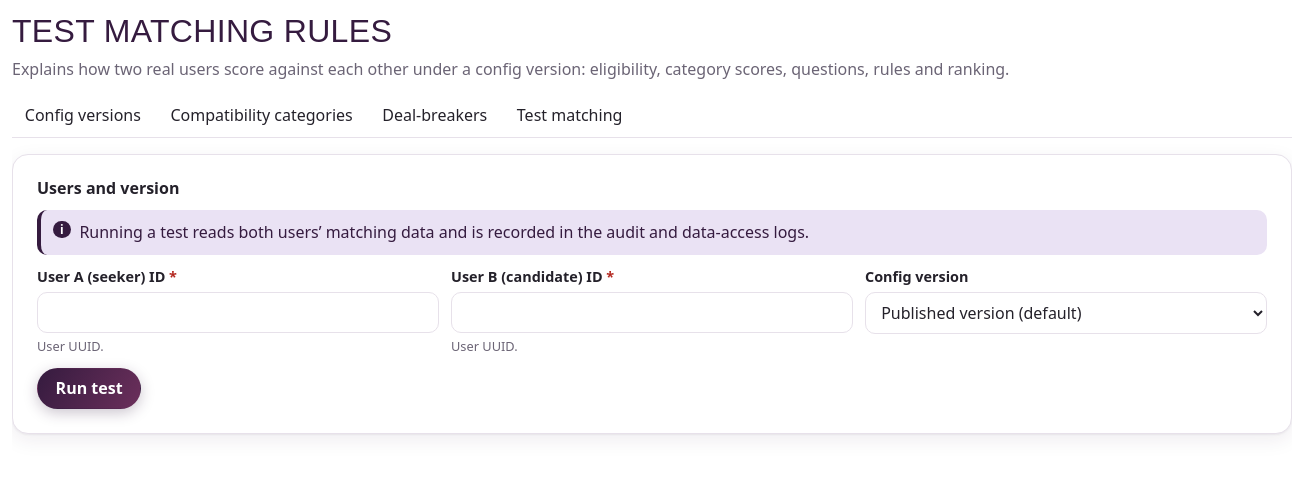
Test: MatchTestPage › validates user IDs with the shared schema
Type "not-a-uuid" into the field labelled "User A (seeker) ID *".
click(238, 313); type("not-a-uuid")  # box [37,292,439,333]
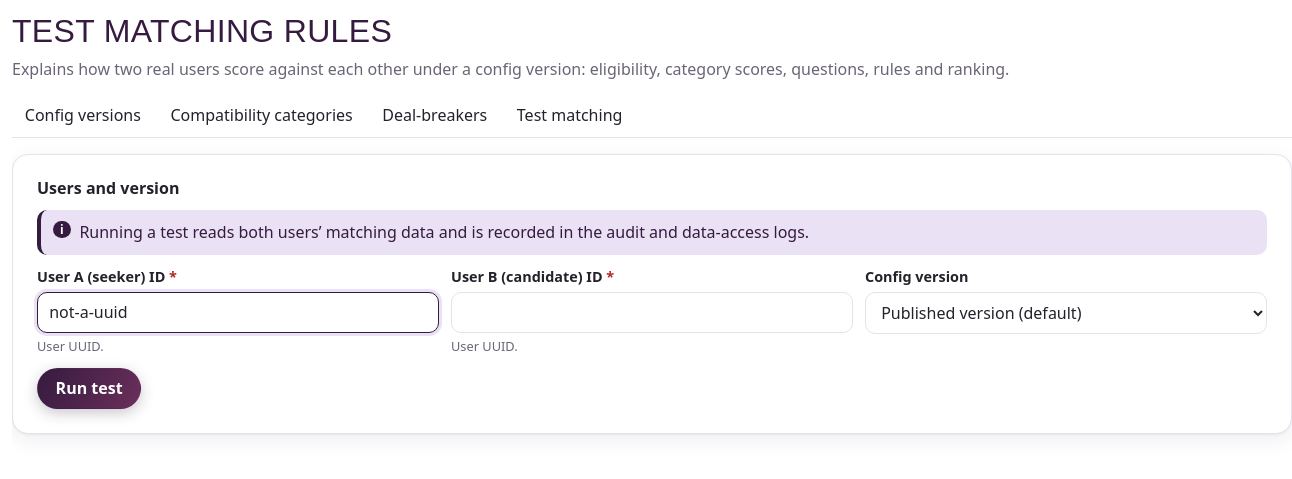
Click the button "Run test".
click(89, 388)  # box [37,368,141,409]
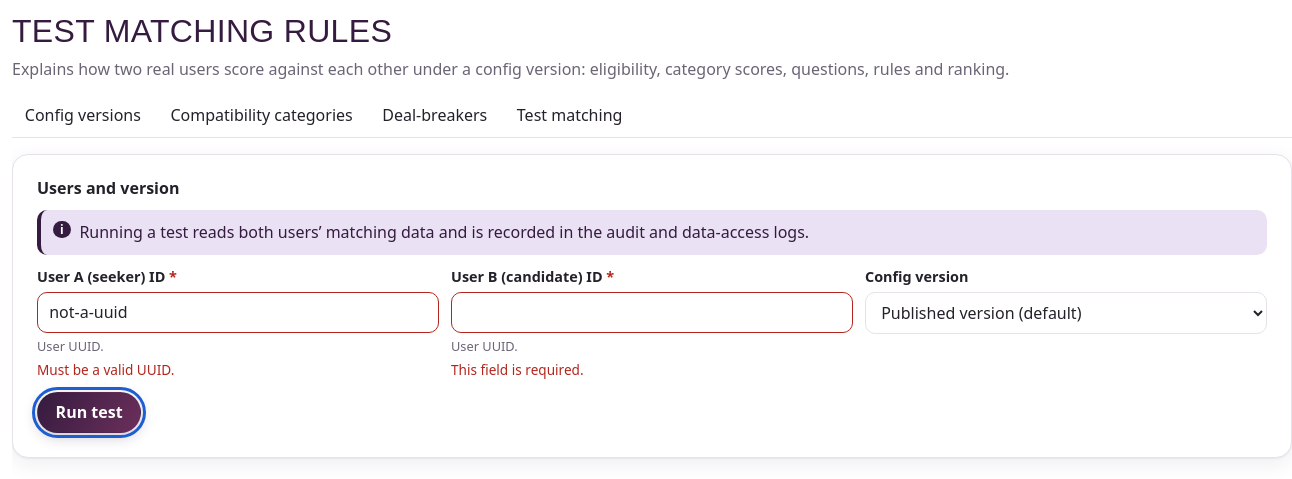
Expected: the text "Must be a valid UUID." is shown, [37,360,174,379]
Expected: the text "This field is required." is shown, [451,360,584,379]
